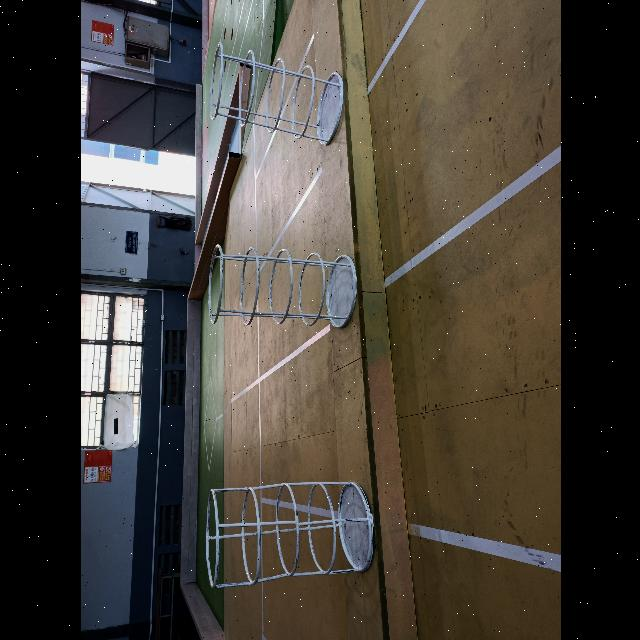S: (197, 476, 385, 594), (207, 40, 345, 148), (206, 242, 360, 331)
